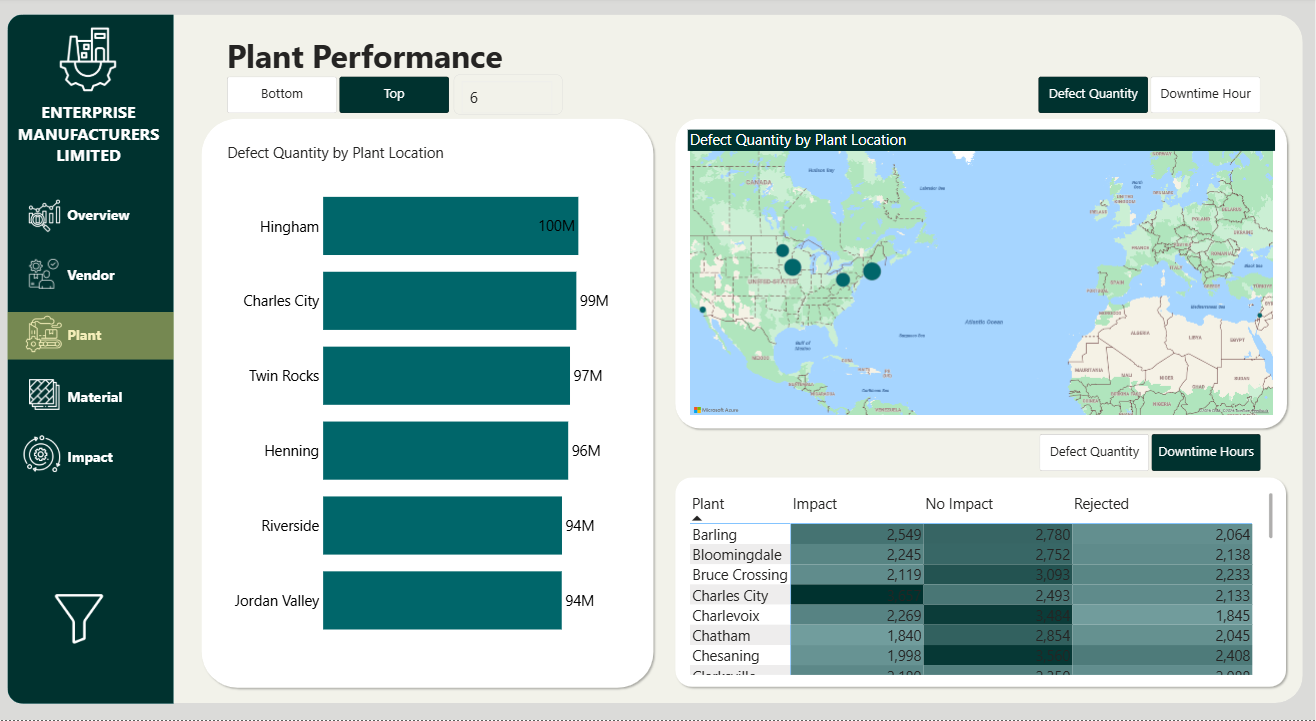

This screenshot's page, from the dashboard's own definition file:
{"tool":"powerbi","page":{"name":"Plant","canvas":[3000,1650],"ordinal":3},"visuals":[{"type":"shape","box":[0,0,3000,1650.3],"z":0},{"type":"image","box":[54.2,456.1,94.1,85.5],"z":0,"group":"g1"},{"type":"textbox","box":[148.2,607.9,156.8,82.7],"z":0,"group":"g2"},{"type":"textbox","box":[148.2,745.5,156.8,82.7],"z":0,"group":"g3"},{"type":"textbox","box":[148.3,883,156.8,82.7],"z":0,"group":"g4"},{"type":"textbox","box":[148.3,1020.6,156.8,82.7],"z":0,"group":"g5"},{"type":"image","box":[116.9,1356.9,128.3,122.6],"z":0,"group":"g6"},{"type":"shape","box":[30.1,39.9,2939.9,1570.2],"z":1000},{"type":"textbox","box":[148.3,470.4,156.8,82.7],"z":1000,"group":"g1"},{"type":"image","box":[51.3,590.1,96.9,82.7],"z":1000,"group":"g2"},{"type":"image","box":[51.3,718.4,96.9,99.8],"z":1000,"group":"g3"},{"type":"image","box":[54.2,866.6,94.1,79.8],"z":1000,"group":"g4"},{"type":"image","box":[42.8,992.1,105.5,99.8],"z":1000,"group":"g5"},{"type":"shape","box":[16,39.9,379,1571.8],"z":2000},{"type":"image","box":[76.8,63.8,247.3,159.6],"z":3000},{"type":"textbox","box":[27.9,231.4,347.1,187.5],"z":4000},{"type":"textbox","box":[451,80.2,761.7,120.3],"z":5000},{"type":"shape","box":[451,267.3,1049,1316.3],"z":6000},{"type":"advancedSlicerVisual","fields":{"Values":["TopBottom.Value"]},"box":[514.5,177.1,517.8,93.5],"z":7000},{"type":"shape","box":[1530.1,267.3,1413.1,724.9],"z":8000},{"type":"shape","box":[1530.8,1086.1,1411.1,496],"z":9000},{"type":"advancedSlicerVisual","fields":{"Values":["PlantParameter.PlantParameter"]},"box":[2361.9,177.1,517.8,93.5],"z":10000},{"type":"slicer","fields":{"Values":["Top N Parameter.Top N Parameter"]},"box":[1034.8,176.7,248,91.2],"z":11000},{"type":"clusteredBarChart","fields":{"Y":["_Rank.Rank Plant by Defect Qty"],"Category":["Plant Location.Plant Location"]},"box":[514.5,330.7,898.7,1189.3],"z":12000},{"type":"pivotTable","fields":{"Values":["DownTime.Total Downtime Hours"],"Columns":["Defect Type.Defect Type"],"Rows":["Plant Location.Plant Location"]},"box":[1567.9,1126,1339.8,424.8],"z":13000},{"type":"advancedSlicerVisual","fields":{"Values":["Overview .Overview "]},"box":[2366.1,992.1,516,94.1],"z":14000},{"type":"azureMap","fields":{"Size":["_Rank.Rank Plant by Defect Qty"],"Category":["Plant Location.Plant Location"]},"box":[1567.9,302.2,1339.8,655.7],"z":15000},{"type":"group","id":"g1","title":"Group 2","box":[54.2,456.1,250.9,96.9],"z":16000},{"type":"group","id":"g2","title":"Group 3","box":[51.3,590.1,253.7,100.5],"z":17000},{"type":"group","id":"g3","title":"Group 4","box":[51.3,718.4,253.7,109.8],"z":18000},{"type":"group","id":"g4","title":"Group 5","box":[54.2,866.6,250.9,99.1],"z":19000},{"type":"group","id":"g5","title":"Group 6","box":[42.8,992.1,262.3,111.2],"z":20000},{"type":"shape","box":[16.9,718.5,379.6,108.5],"z":21000},{"type":"shape","box":[16.9,850.7,379.6,108.5],"z":22000},{"type":"shape","box":[16.9,999.8,379.6,108.5],"z":23000},{"type":"shape","box":[16.9,586.3,379.6,108.5],"z":24000},{"type":"shape","box":[17.1,453.3,382,108.3],"z":25000},{"type":"group","id":"g6","title":"Plant Filter","box":[116.9,442.2,716.8,1037.3],"z":26000}]}

Visuals, with their boxes on the page's 3000x1650 design canvas (x1, y1, x2, y2). These are canvas units, not pixel positions in the 1316x721 screenshot, which may show the page scaled, cropped or inside an application window:
shape: [0, 0, 3000, 1650]
image: [54, 456, 148, 542]
textbox: [148, 608, 305, 691]
textbox: [148, 746, 305, 828]
textbox: [148, 883, 305, 966]
textbox: [148, 1021, 305, 1103]
image: [117, 1357, 245, 1480]
shape: [30, 40, 2970, 1610]
textbox: [148, 470, 305, 553]
image: [51, 590, 148, 673]
image: [51, 718, 148, 818]
image: [54, 867, 148, 946]
image: [43, 992, 148, 1092]
shape: [16, 40, 395, 1612]
image: [77, 64, 324, 223]
textbox: [28, 231, 375, 419]
textbox: [451, 80, 1213, 200]
shape: [451, 267, 1500, 1584]
advancedSlicerVisual - TopBottom.Value: [514, 177, 1032, 271]
shape: [1530, 267, 2943, 992]
shape: [1531, 1086, 2942, 1582]
advancedSlicerVisual - PlantParameter.PlantParameter: [2362, 177, 2880, 271]
slicer - Top N Parameter.Top N Parameter: [1035, 177, 1283, 268]
clusteredBarChart - _Rank.Rank Plant by Defect Qty x Plant Location.Plant Location: [514, 331, 1413, 1520]
pivotTable - DownTime.Total Downtime Hours x Defect Type.Defect Type: [1568, 1126, 2908, 1551]
advancedSlicerVisual - Overview .Overview : [2366, 992, 2882, 1086]
azureMap - _Rank.Rank Plant by Defect Qty x Plant Location.Plant Location: [1568, 302, 2908, 958]
"Group 2" group: [54, 456, 305, 553]
"Group 3" group: [51, 590, 305, 691]
"Group 4" group: [51, 718, 305, 828]
"Group 5" group: [54, 867, 305, 966]
"Group 6" group: [43, 992, 305, 1103]
shape: [17, 718, 396, 827]
shape: [17, 851, 396, 959]
shape: [17, 1000, 396, 1108]
shape: [17, 586, 396, 695]
shape: [17, 453, 399, 562]
"Plant Filter" group: [117, 442, 834, 1480]
